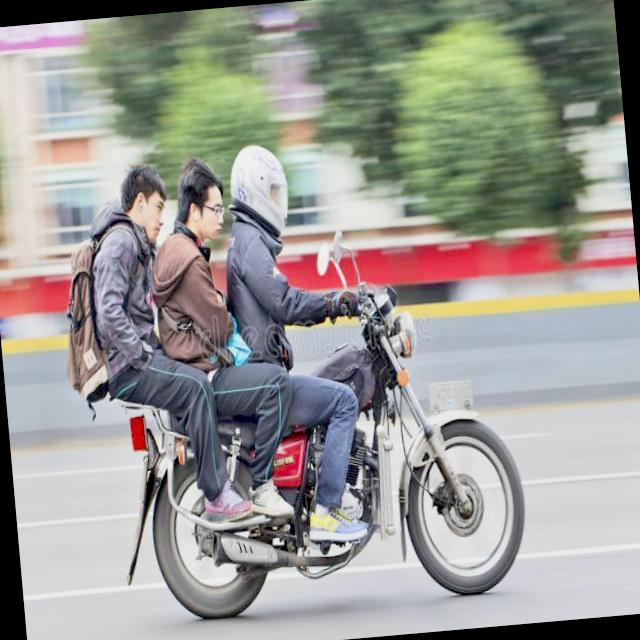motorcycle: (97, 268, 540, 630)
person: (198, 134, 372, 493), (68, 158, 211, 468), (128, 150, 270, 432)
rider_region: (74, 126, 532, 627)
